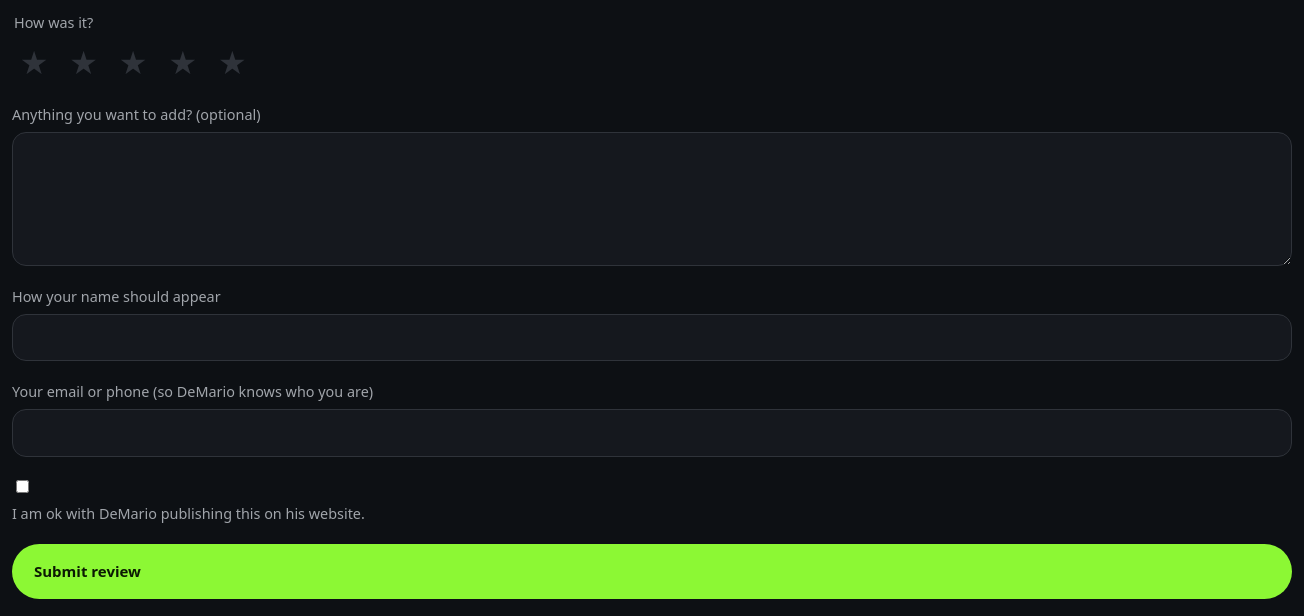
it: ReviewForm thank-you › tells a public reviewer it waits for DeMario
Step 1. Click the radio button named "4 stars" → (183, 62), box [168,40,197,83]
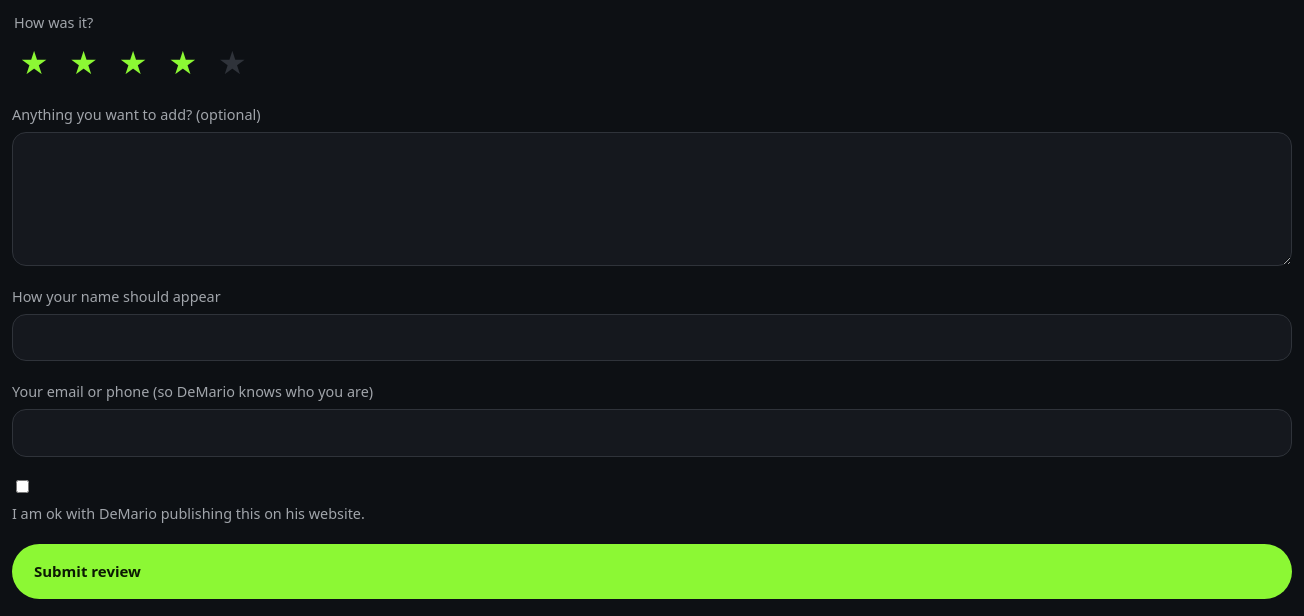
Step 2. Type "Great coach." into the text box labelled "Anything you want to add? (optional)" → (652, 199), box [12,132,1292,266]
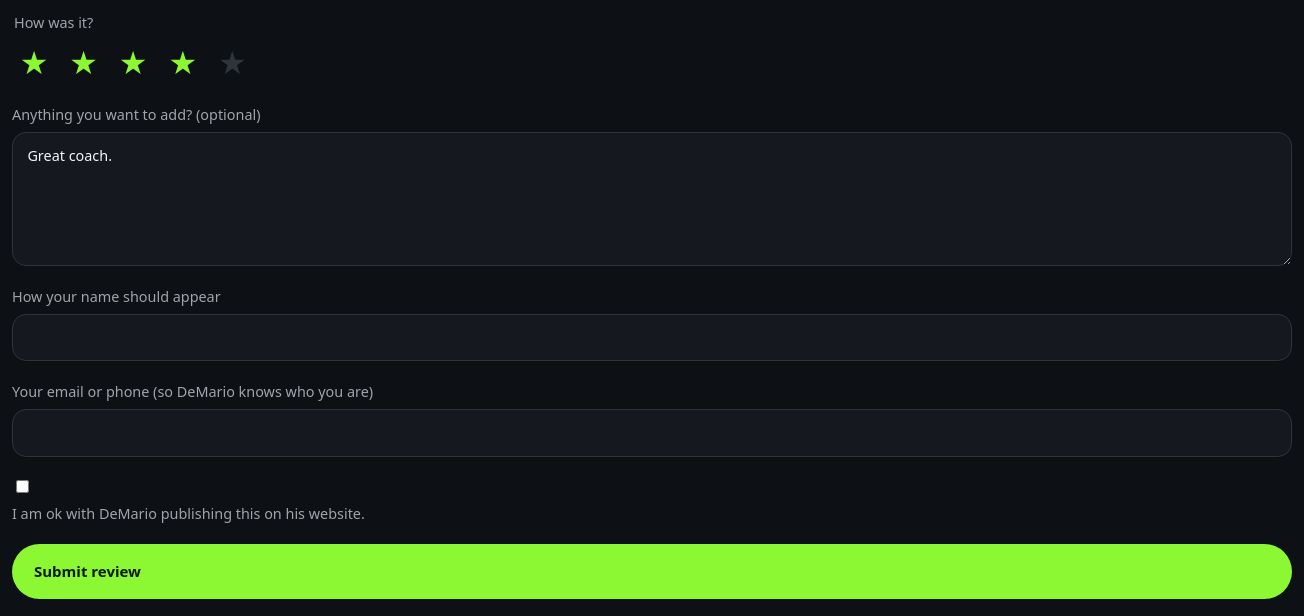
Step 3. Type "Sam P." into the field labelled "How your name should appear" → (652, 338), box [12,314,1292,362]
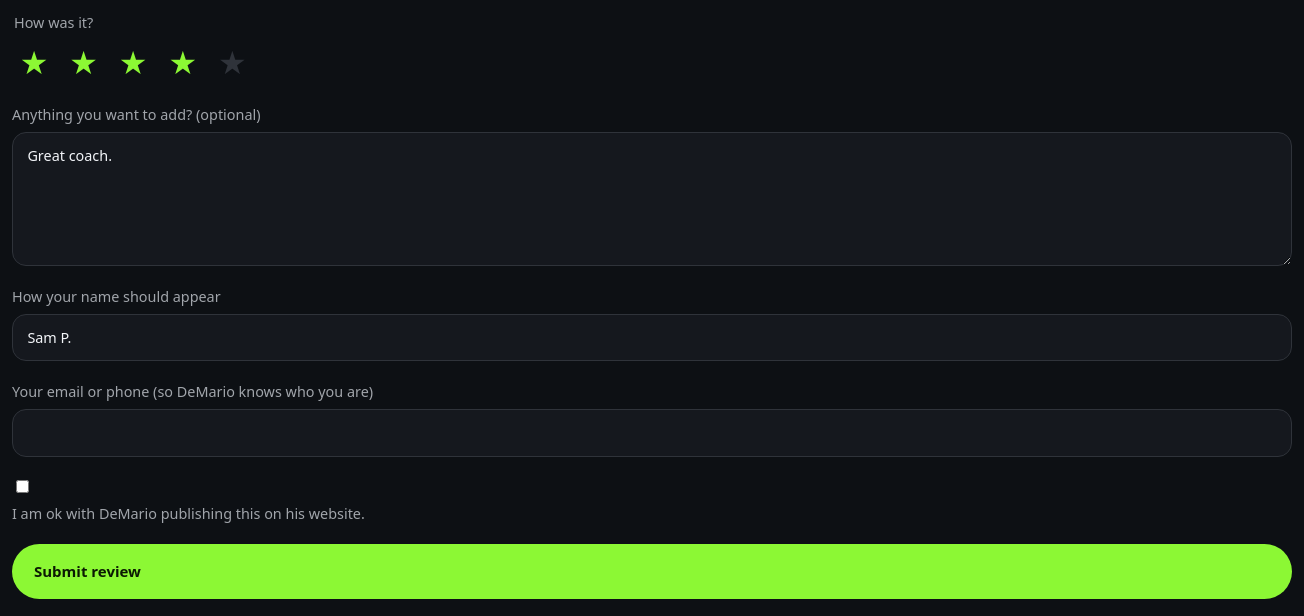
Step 4. Click the checkbox → (22, 487), box [16,480,29,493]
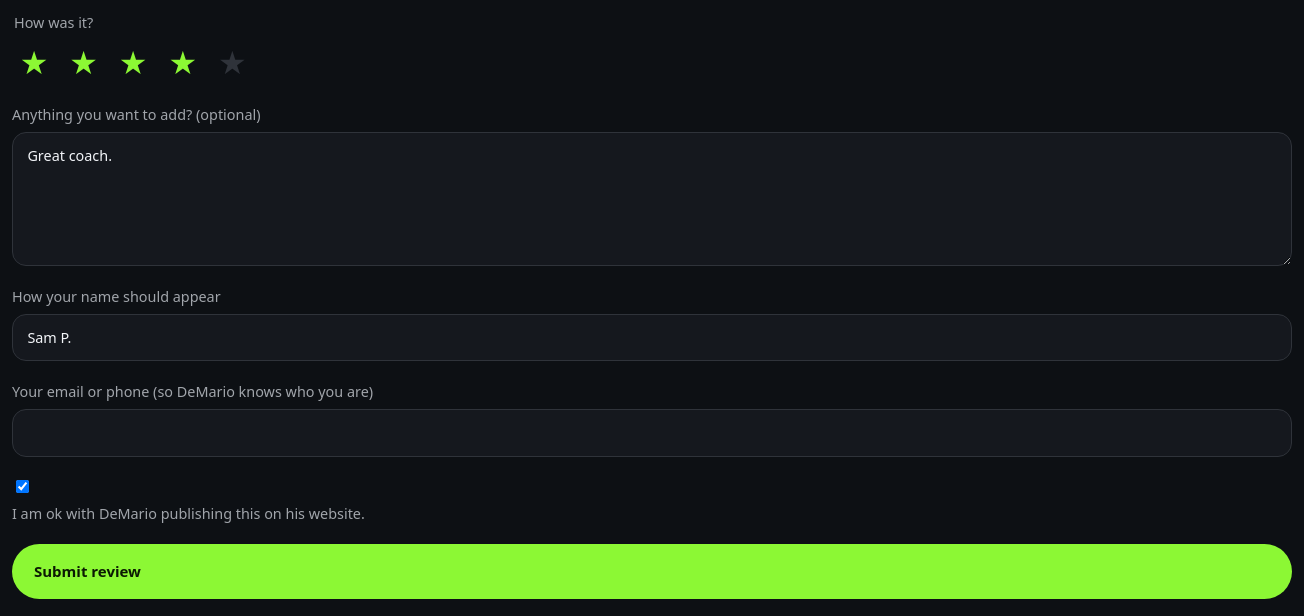
Step 5. Submit the form named "submit review"
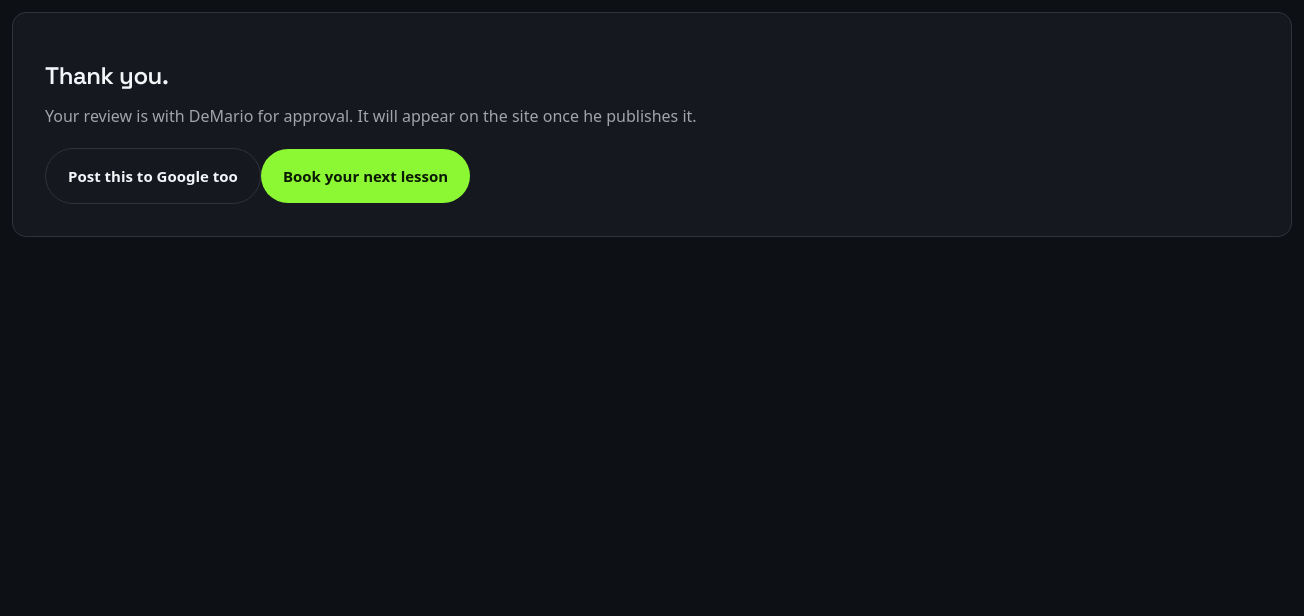
Expected: the text "with DeMario for approval" is shown, [45,105,697,127]
